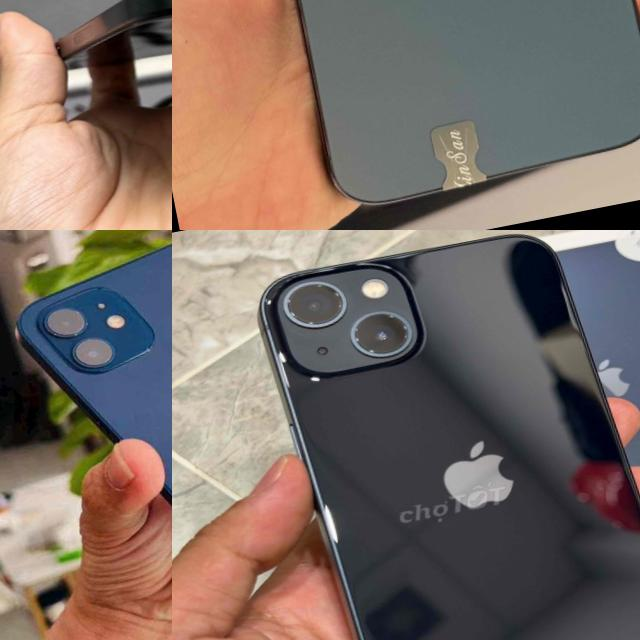gen_12_13: (246, 230, 640, 640), (225, 0, 640, 218), (0, 230, 172, 640)
gen_15: (20, 0, 172, 106)
